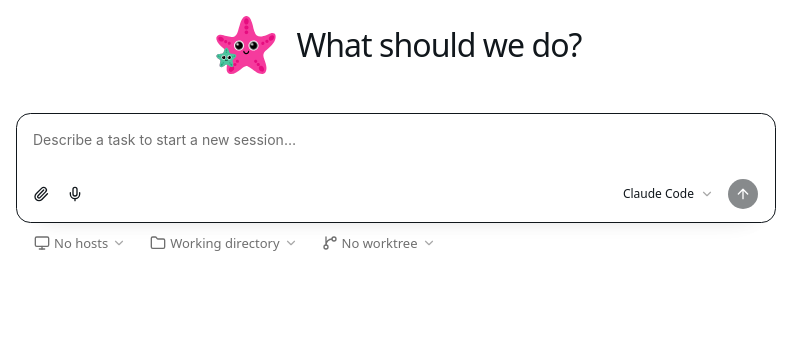
Scenario: NewChatLandingScreen › offers connect-host even when no hosts are online (no dead end)
This screenshot has width=793, height=340.
Step 1. Press the mouse on the button with test id "new-chat-landing-host-chip" → (80, 243), box [24,231,136,255]
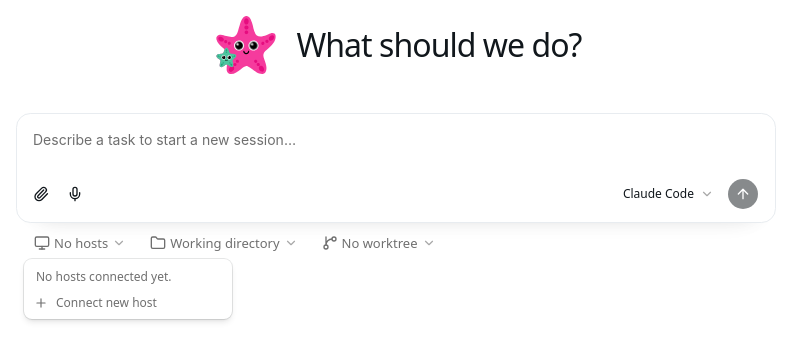
Expected: the menu item with test id "new-chat-landing-connect-host" is shown, [34,294,157,311]
